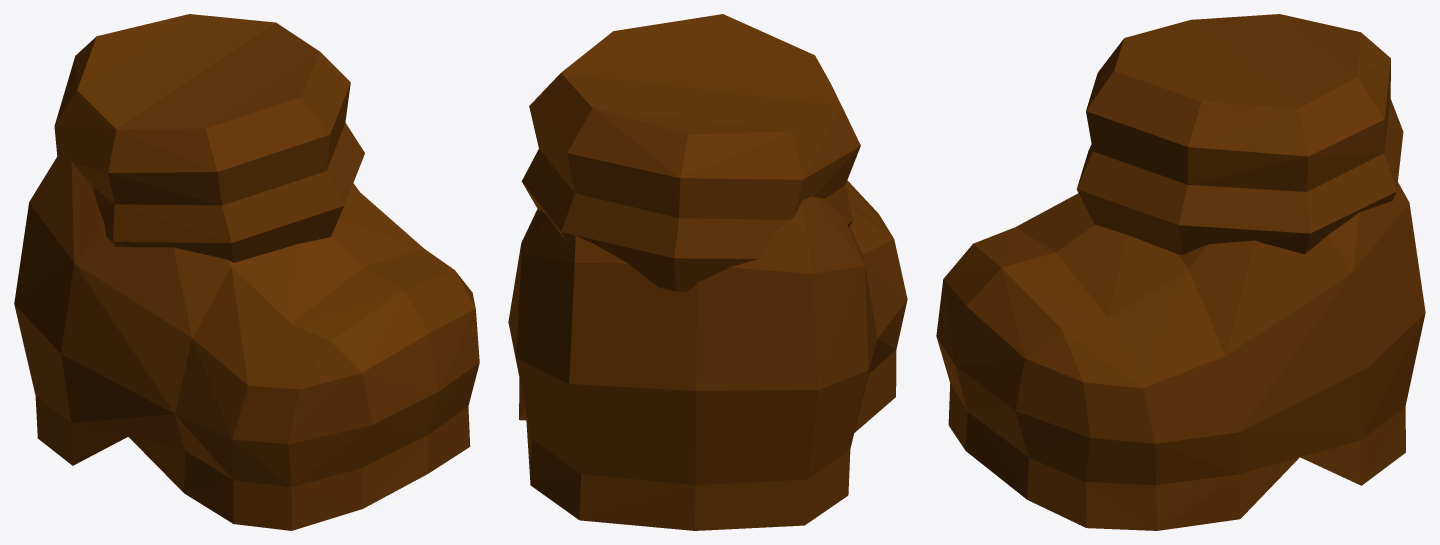
File: bootL.fbx
The picture shows the model from 3 angles, left to right: view 1: azimuth 30°, elevation 25°; view 2: azimuth 150°, elevation 25°; view 3: azimuth 270°, elevation 25°; orthographic projection. The views are drawn at different scales.
Visible parts, largest first — view 1: skp5A68_1; view 2: skp5A68_1; view 3: skp5A68_1.
Boxes of the visible parts, bbox=[...] form: skp5A68_1: bbox=[14, 14, 479, 530]; skp5A68_1: bbox=[508, 14, 907, 530]; skp5A68_1: bbox=[936, 14, 1425, 530].
Bounding box in the file's own units: 0.00217 × 0.00216 × 0.00249.
